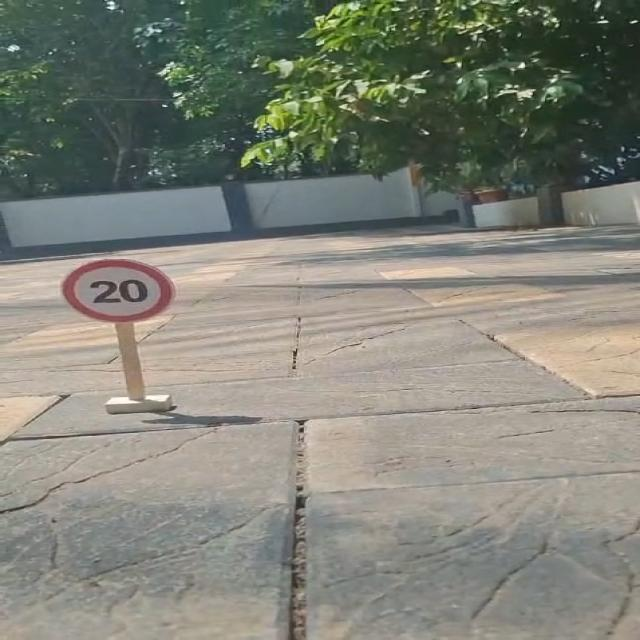Speed20: (47, 257, 188, 326), (54, 255, 184, 328)
